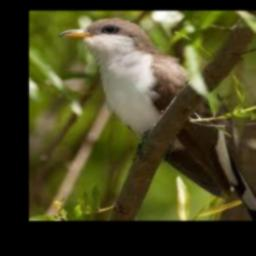Cuckoo: (58, 17, 256, 221)
